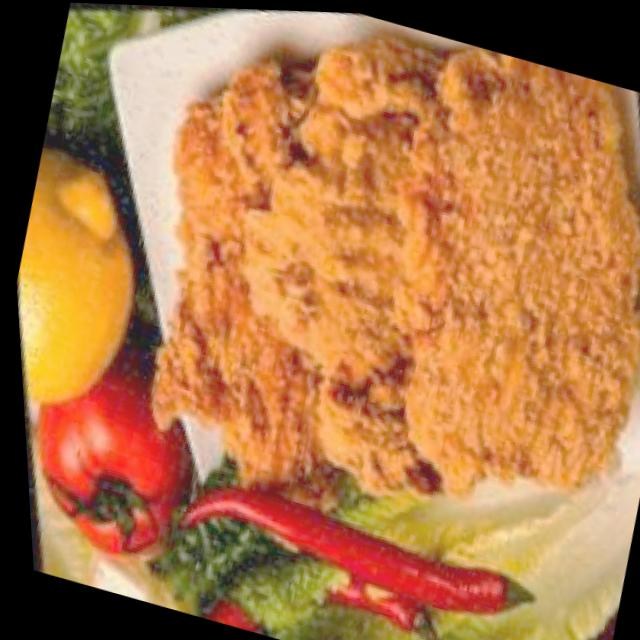fried_chicken: (95, 4, 640, 581)
